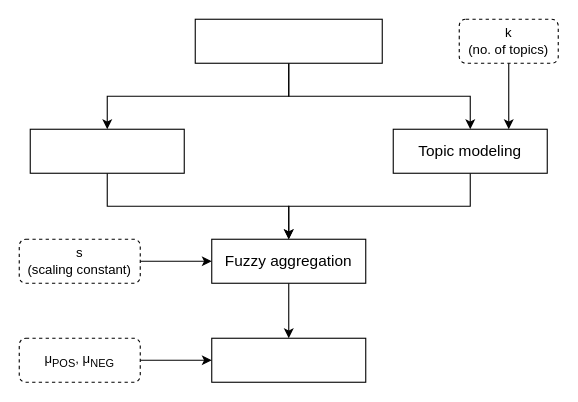
This 578x402 diagram has some shape labels left out. The shapes that lost their labels are listed below. From the top down, each one's box as (x1, y1, x2, y2) in pixels, then its label:
(194, 18, 382, 63): Social network posts
(29, 128, 184, 173): Sentiment analysis
(211, 337, 366, 382): Amount calculation
